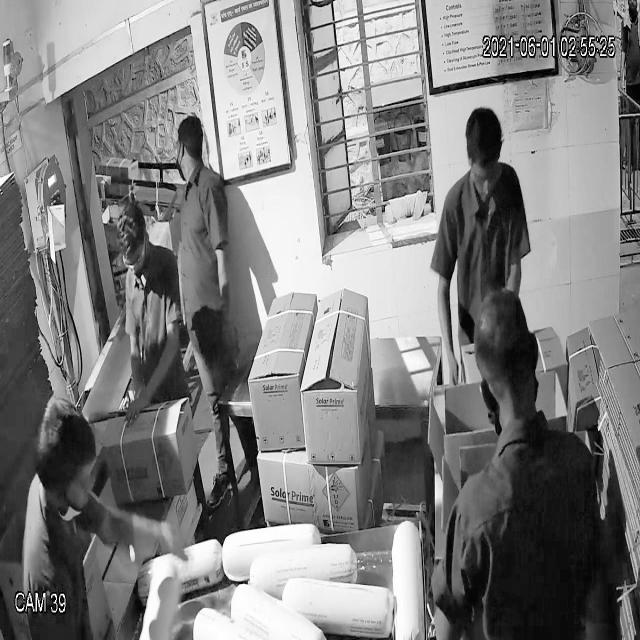glasses: (116, 236, 150, 279)
